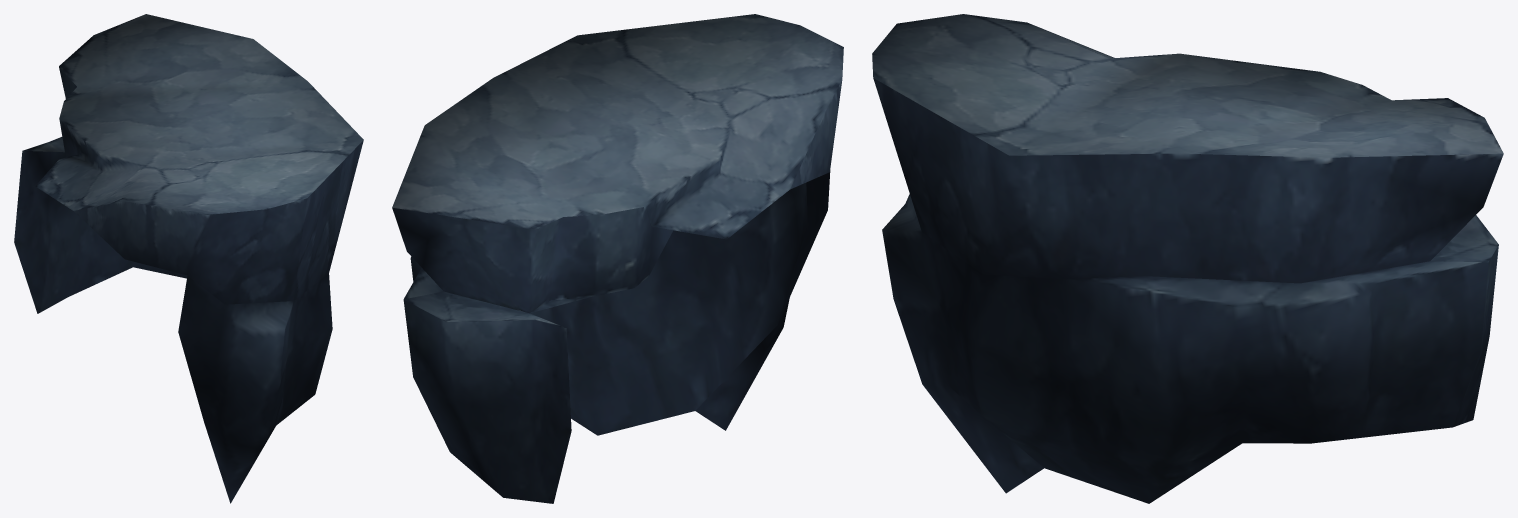
File: Area_13_18.fbx
3 views of the same model, side by side, from view 1: azimuth 30°, elevation 25°; view 2: azimuth 150°, elevation 25°; view 3: azimuth 270°, elevation 25° (orthographic). The views are drawn at different scales.
Visible parts, largest first — view 1: Area_13_18; view 2: Area_13_18; view 3: Area_13_18.
Part boxes in pixels (<box>): Area_13_18: <box>14,14,363,503</box>; Area_13_18: <box>392,14,843,503</box>; Area_13_18: <box>872,14,1503,503</box>.
Size of the model in its own units: 2357 by 2886 by 3832.
